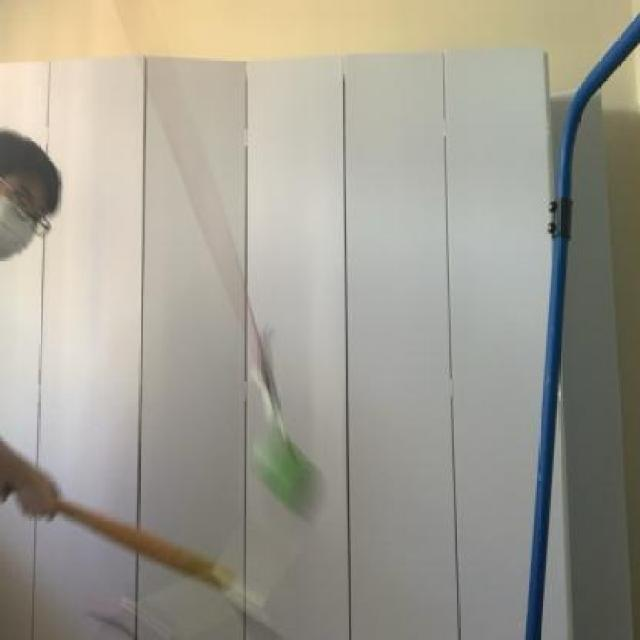baseball: (241, 416, 334, 530)
